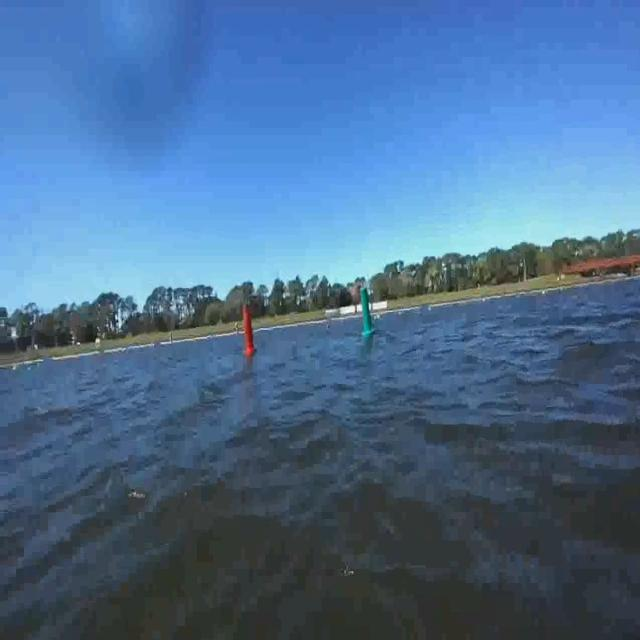green-column-buoy: (360, 287, 376, 337)
red-column-buoy: (242, 306, 257, 355)
